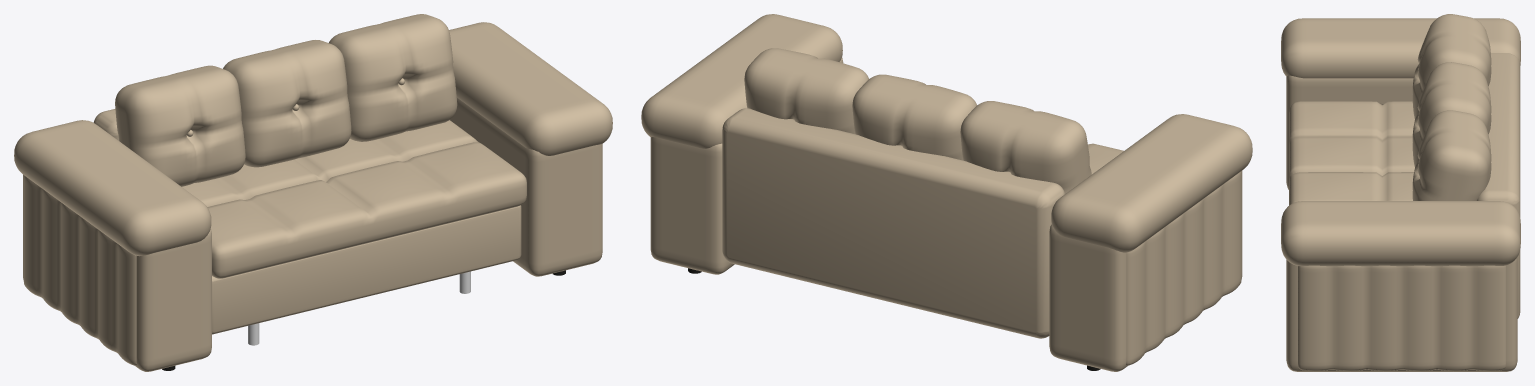
File: sb-190-demo.glb
3 renders of one model, left to right at view 1: azimuth 30°, elevation 25°; view 2: azimuth 150°, elevation 25°; view 3: azimuth 270°, elevation 25°, orthographic. The views are drawn at different scales.
Bounding box in the file's own units: 1.9 × 0.7845 × 0.869.
